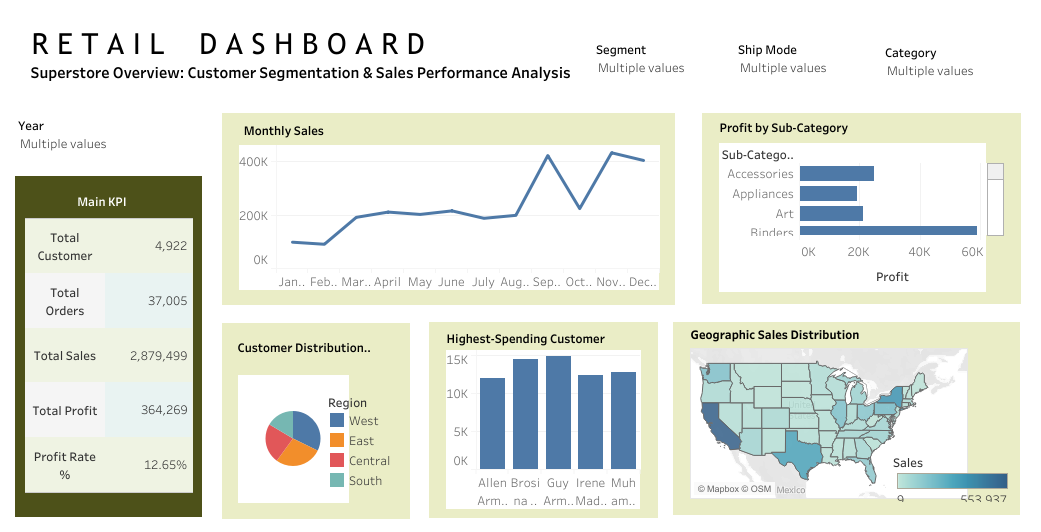

What the dashboard file says about the page in this screenshot:
{"tool":"tableau","page":{"name":"SUPERSTORE DASHBOARD","canvas":[1000,1000],"units":"permille","ordinal":1},"visuals":[{"type":"image","box":[7.1,15.1,985.8,969.8]},{"type":"filter","title":"Sheet 1","param":"[federated.13tl2tf0z9cy0719y8op30mw2wji].[none:Category:nk]","box":[753.1,67.9,98.6,83]},{"type":"filter","title":"Sheet 1","param":"[federated.13tl2tf0z9cy0719y8op30mw2wji].[yr:Order Date:ok]","box":[860.6,67.9,98.6,81.1]},{"type":"filter","title":"Sheet 1","param":"[federated.13tl2tf0z9cy0719y8op30mw2wji].[none:Ship Mode:nk]","box":[645.6,71.7,99.5,88.7]},{"type":"filter","title":"Sheet 1","param":"[federated.13tl2tf0z9cy0719y8op30mw2wji].[none:Segment:nk]","box":[529.3,73.6,103.9,84.9]},{"type":"worksheet","title":"monthly sales","mark":"Line","rows":["Calculation_0930526858706948"],"cols":["Order Date"],"box":[214,194.3,421,324.5]},{"type":"text","box":[94.1,200,88.8,56.6]},{"type":"worksheet","title":"profit by subcat","mark":"Bar","rows":["Sub-Category"],"cols":["Profit"],"box":[640.3,211.3,329.5,318.9]},{"type":"worksheet","title":"Sheet 1","mark":"Automatic","box":[52.4,226.4,152.8,637.7]},{"type":"worksheet","title":"geographic","mark":"Automatic","box":[706.9,586.8,267.3,315.1]},{"type":"worksheet","title":"cust by region","mark":"Pie","box":[452,588.7,213.1,337.7]}]}

Visuals, with their boxes on the dashboard's canvas, which has no fixed pixel size, in thousandths of its width and height (x1, y1, x2, y2). These are canvas units, not pixel positions in the 1041x532 screenshot, which may show the page scaled, cropped or inside an application window:
image: select_region(7, 15, 993, 985)
"Sheet 1" filter: select_region(753, 68, 852, 151)
"Sheet 1" filter: select_region(861, 68, 959, 149)
"Sheet 1" filter: select_region(646, 72, 745, 160)
"Sheet 1" filter: select_region(529, 74, 633, 158)
"monthly sales" worksheet (Line marks): select_region(214, 194, 635, 519)
text: select_region(94, 200, 183, 257)
"profit by subcat" worksheet (Bar marks): select_region(640, 211, 970, 530)
"Sheet 1" worksheet: select_region(52, 226, 205, 864)
"geographic" worksheet: select_region(707, 587, 974, 902)
"cust by region" worksheet (Pie marks): select_region(452, 589, 665, 926)
